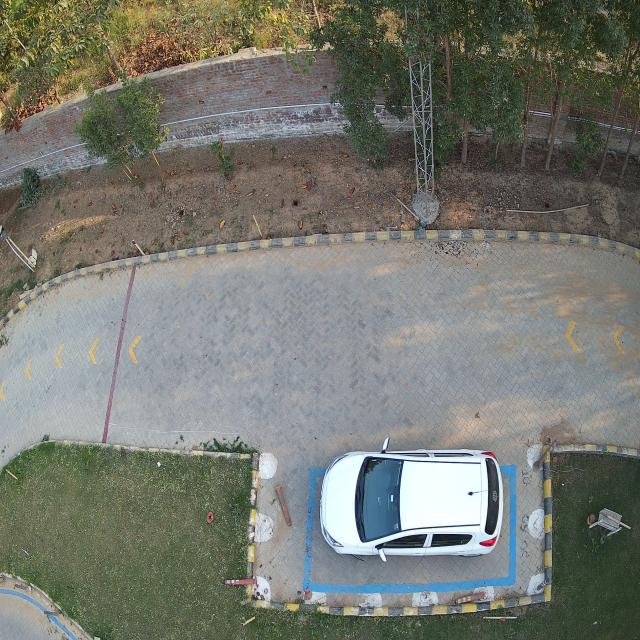car: (320, 440, 504, 560)
